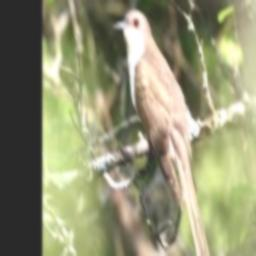Cuckoo: (114, 9, 215, 256)
